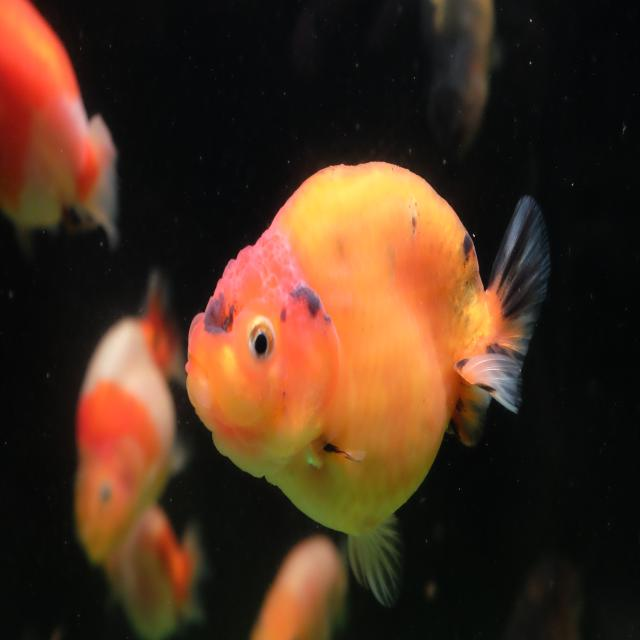Goldfish: (183, 156, 551, 611), (70, 269, 183, 566), (0, 0, 121, 255)
